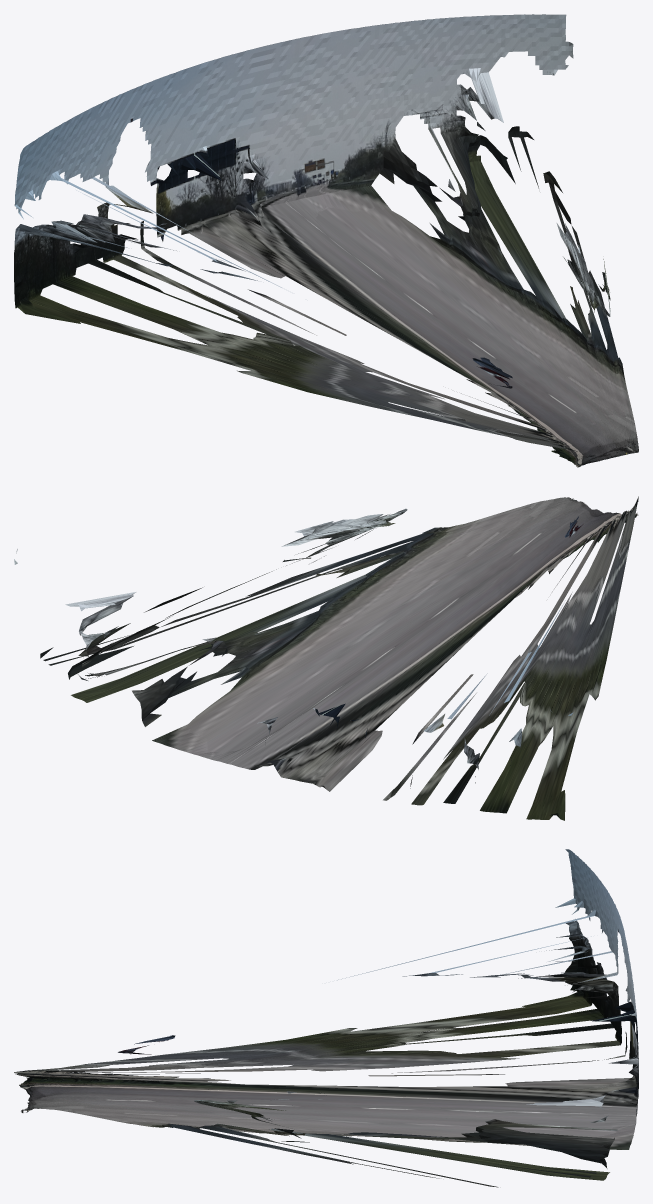
The picture shows the model from 3 angles, top to bottom: view 1: azimuth 30°, elevation 25°; view 2: azimuth 150°, elevation 25°; view 3: azimuth 270°, elevation 25°; orthographic projection. The views are drawn at different scales.
Visible parts, largest first — view 1: defaultobject; view 2: defaultobject; view 3: defaultobject.
Boxes of the visible parts, box(x1,y1,x2,y2) form: defaultobject: box(14, 14, 638, 467); defaultobject: box(14, 496, 638, 820); defaultobject: box(14, 849, 638, 1187).
Bounding box in the file's own units: 40.92 × 12.5 × 45.12.
1 material, 1 textured.
